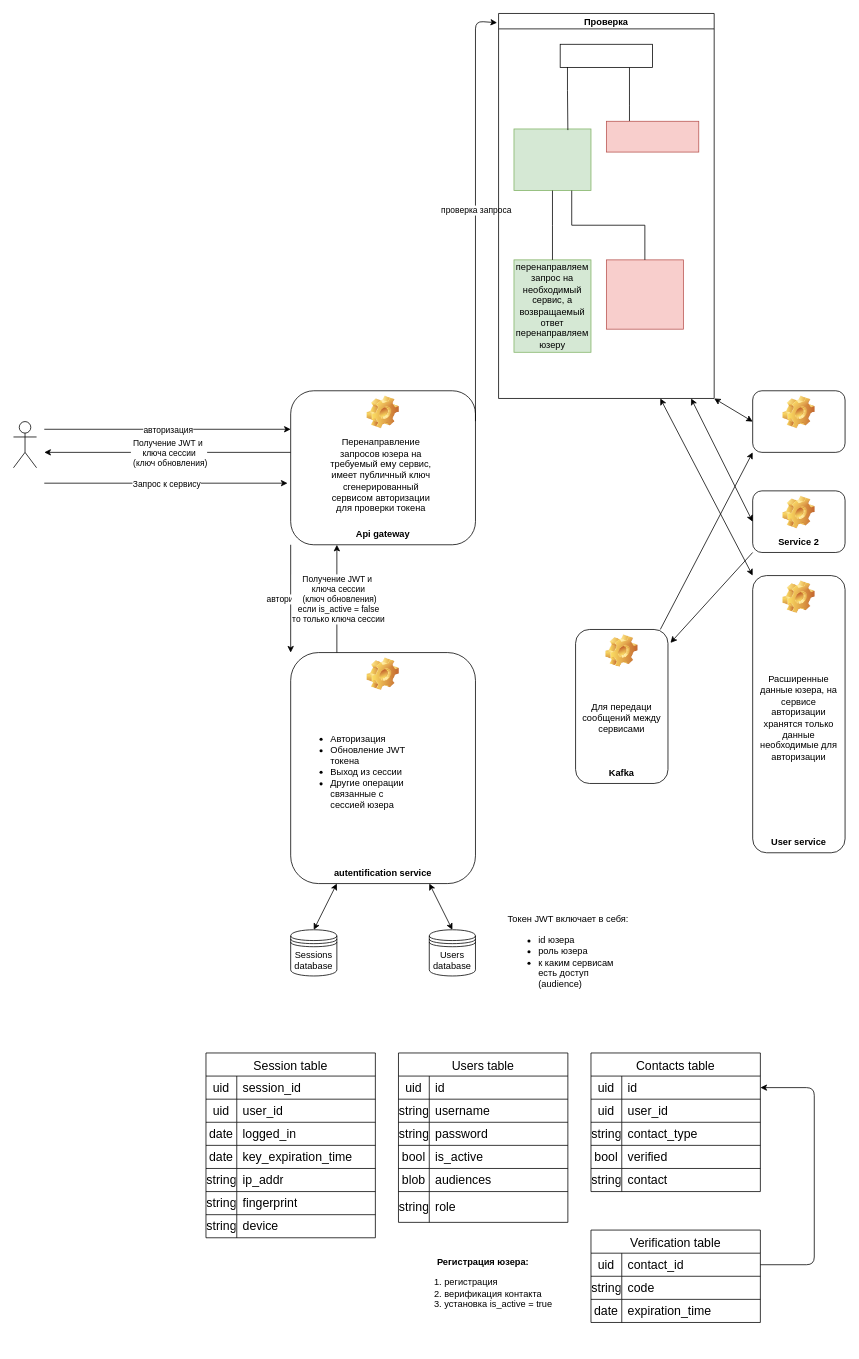
The diagram is 859 pixels wide and 1359 high, and some of its shapes have lost their labels. The centre of each missing label's shape, as x and y in pixels:
"Service 1" goes at point (798, 421).
"User" goes at point (25, 444).
"Верификация jwt" goes at point (606, 55).
"Невалиден отправляем ответ что доступ к данному сервису запрещен" goes at point (644, 294).
"Невалиден, возвращаем 401 юзеру" goes at point (652, 136).
"Проверка к какому сервису идет обращение и audiences из токена" goes at point (552, 159).
